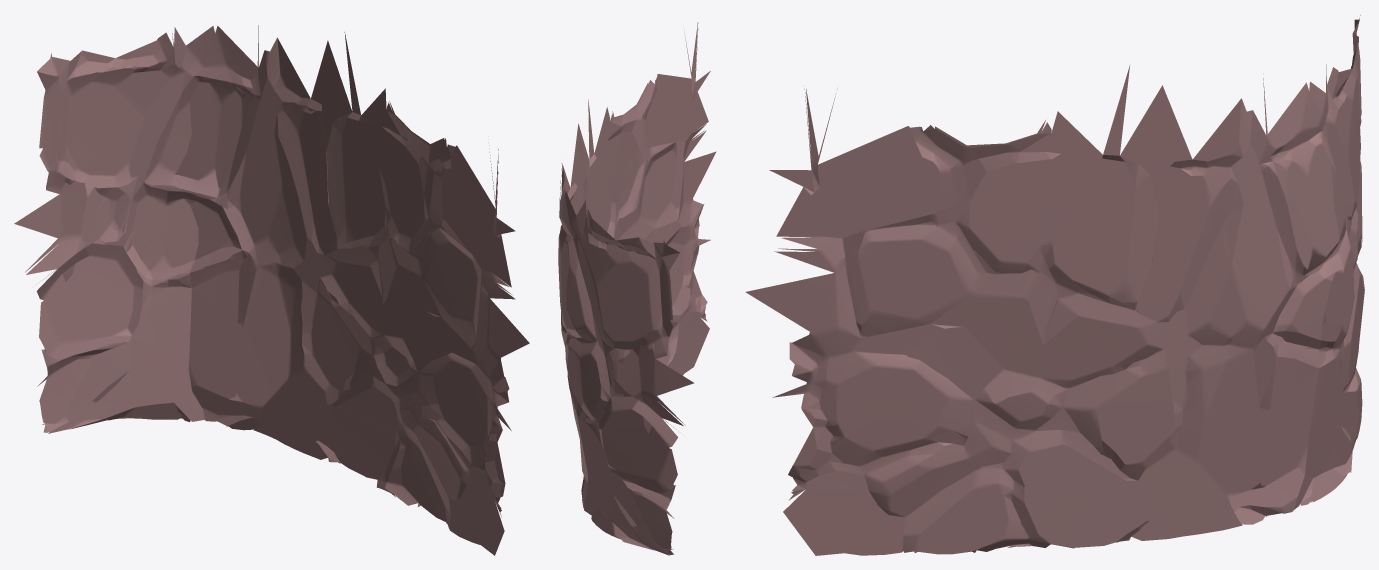
Rendered from plateau.fbx_Rock_Plateau_044LODs.fbx.
The picture shows the model from 3 angles, left to right: view 1: azimuth 30°, elevation 25°; view 2: azimuth 150°, elevation 25°; view 3: azimuth 270°, elevation 25°; orthographic projection. The views are drawn at different scales.
Parts seen in each view (by area): view 1: Rock Plateau.044_LOD0; view 2: Rock Plateau.044_LOD0; view 3: Rock Plateau.044_LOD0.
Part boxes in pixels (left/top/right/bottom): Rock Plateau.044_LOD0: left=14, top=25, right=529, bottom=555; Rock Plateau.044_LOD0: left=558, top=22, right=716, bottom=555; Rock Plateau.044_LOD0: left=745, top=15, right=1364, bottom=555.
Size of what is drawn, in the model's own units: 2682 by 4500 by 5176.
